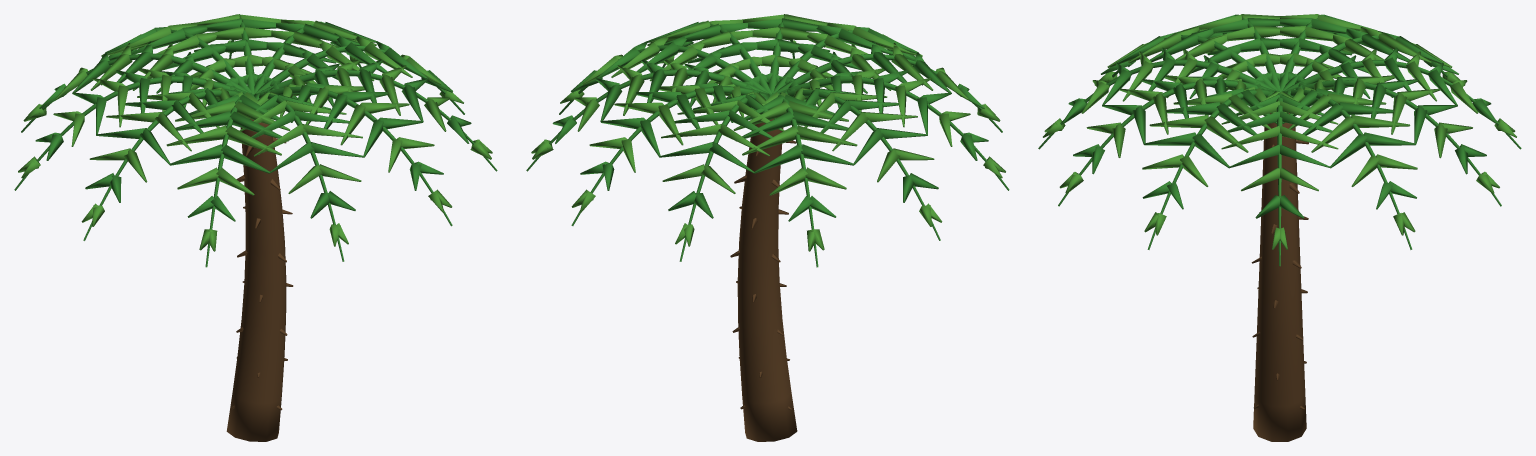
File: fern.glb
The picture shows the model from 3 angles, left to right: view 1: azimuth 30°, elevation 25°; view 2: azimuth 150°, elevation 25°; view 3: azimuth 270°, elevation 25°; orthographic projection.
Parts seen in each view (by area): view 1: Fern; view 2: Fern; view 3: Fern.
Part boxes in pixels (<box>): Fern: <box>14,14,497,441</box>; Fern: <box>526,14,1009,441</box>; Fern: <box>1038,14,1521,441</box>.
Bounding box in the file's own units: 9.83 × 8.36 × 9.93.
